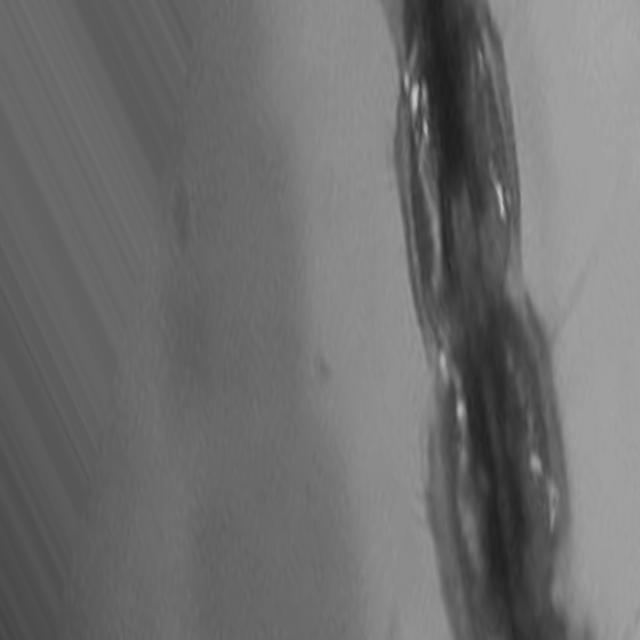larvas: (378, 0, 566, 640)
